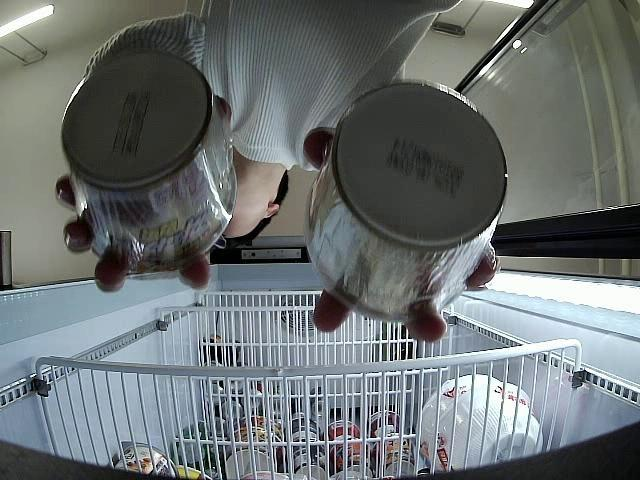04_chapagetti_S: (306, 81, 508, 319), (61, 52, 239, 264)
